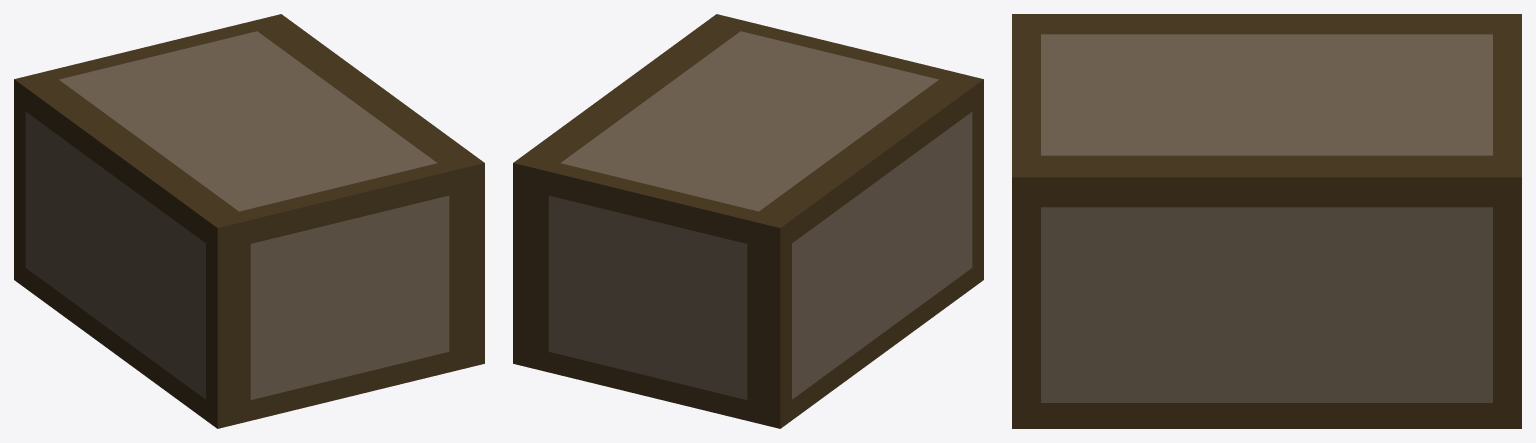
Rendered from Crate.fbx.
3 views of the same model, side by side, from view 1: azimuth 30°, elevation 25°; view 2: azimuth 150°, elevation 25°; view 3: azimuth 270°, elevation 25° (orthographic). The views are drawn at different scales.
Parts seen in each view (by area): view 1: pCube8, pCube7; view 2: pCube8, pCube7; view 3: pCube8, pCube7.
Boxes of the visible parts, box(x1,y1,x2,y2) form: pCube8: box(25, 31, 449, 399); pCube7: box(14, 14, 484, 428); pCube8: box(548, 31, 972, 399); pCube7: box(513, 14, 983, 428); pCube8: box(1041, 34, 1492, 402); pCube7: box(1012, 14, 1521, 428).
Bounding box in the file's own units: 0.7753 × 0.5567 × 1.02.
